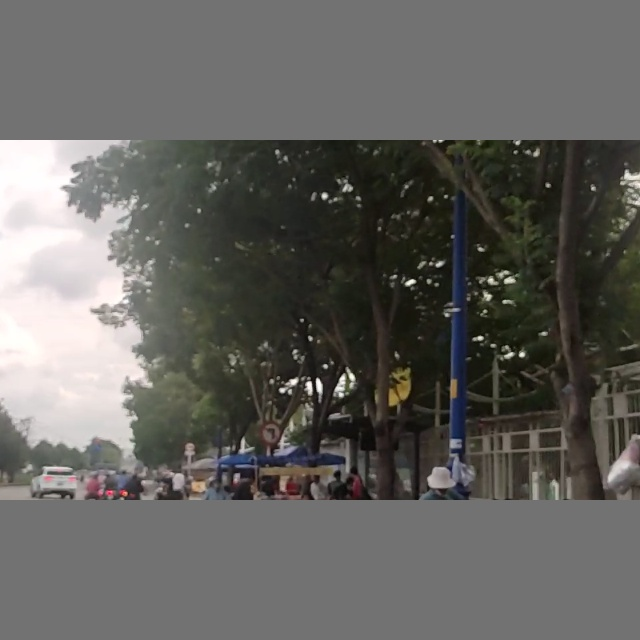P.123a: (259, 421, 282, 443)
